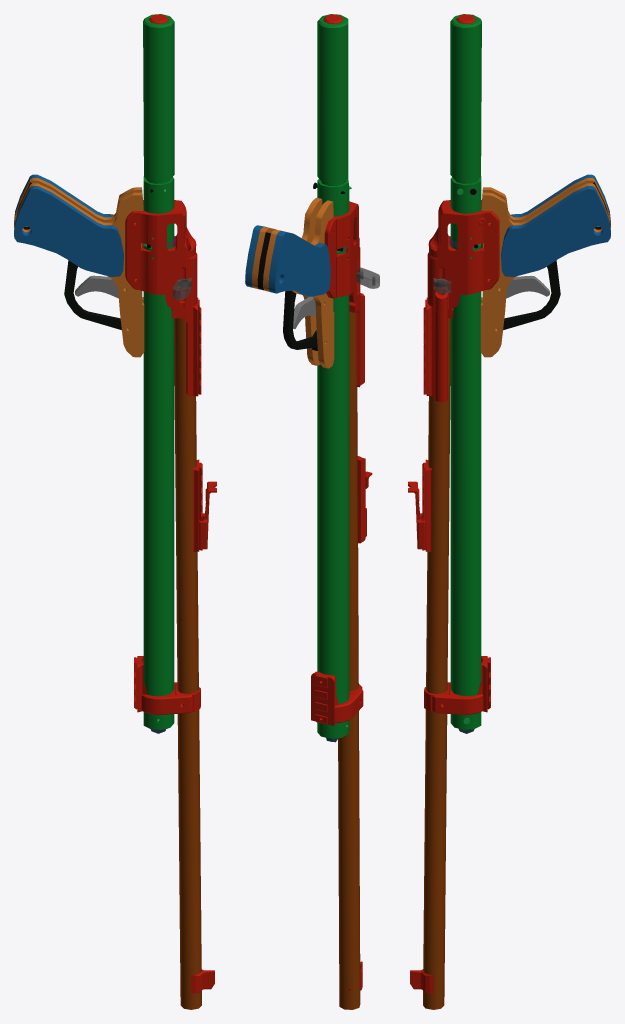
3 renders of one model, left to right at view 1: azimuth 90°, elevation 25°; view 2: azimuth 150°, elevation 25°; view 3: azimuth 270°, elevation 25°, orthographic.
Visible parts, largest first — view 1: G01_PPR_OD25_ID16, G03_srombong_pipe5/8.001, G07_popor8.001, G05_pipagagang_OD25_ID20.001, G01_chamber.001, G07_grip2a.001, G02_magasin.001, G01_ringlaras1.001, G02_loaderhouse.001, G07_grip1.001, G07_grip2.001, G03_rail.001 (+2 smaller); view 2: G01_PPR_OD25_ID16, G03_srombong_pipe5/8.001, G05_pipagagang_OD25_ID20.001, G07_popor8.001, G01_chamber.001, G07_grip2a.001, G01_ringlaras1.001, G07_grip2.001, G07_grip1.001, G02_magasin.001, G03_rail.001, G07_grip3.001 (+3 smaller); view 3: G01_PPR_OD25_ID16, G03_srombong_pipe5/8.001, G07_grip3.001, G05_pipagagang_OD25_ID20.001, G01_chamber.001, G07_grip2.001, G02_magasin.001, G01_ringlaras1.001, G02_loaderhouse.001, G07_grip1.001, G07_grip2a.001, G03_rail.001 (+2 smaller).
Part boxes in pixels (x1,y1,x2,y2): G01_PPR_OD25_ID16: (143, 176, 174, 729); G03_srombong_pipe5/8.001: (174, 318, 201, 1009); G07_popor8.001: (14, 186, 123, 276); G05_pipagagang_OD25_ID20.001: (143, 14, 174, 181); G01_chamber.001: (125, 200, 196, 294); G07_grip2a.001: (14, 183, 144, 357); G02_magasin.001: (171, 297, 201, 396); G01_ringlaras1.001: (134, 656, 192, 714); G02_loaderhouse.001: (165, 252, 197, 309); G07_grip1.001: (14, 182, 128, 330); G07_grip2.001: (14, 178, 143, 302); G03_rail.001: (193, 459, 202, 551); G01_PPR_OD25_ID16: (317, 179, 349, 738); G03_srombong_pipe5/8.001: (338, 312, 360, 1009); G05_pipagagang_OD25_ID20.001: (317, 14, 348, 183); G07_popor8.001: (268, 231, 330, 296); G01_chamber.001: (324, 201, 359, 298); G07_grip2a.001: (263, 200, 334, 368); G01_ringlaras1.001: (311, 671, 363, 725); G07_grip2.001: (252, 197, 322, 365); G07_grip1.001: (257, 232, 317, 350); G02_magasin.001: (349, 293, 364, 387); G03_rail.001: (357, 456, 365, 543); G07_grip3.001: (245, 225, 266, 287); G01_PPR_OD25_ID16: (450, 176, 481, 729); G03_srombong_pipe5/8.001: (423, 318, 450, 1009); G07_grip3.001: (501, 186, 610, 276); G05_pipagagang_OD25_ID20.001: (450, 14, 481, 181); G01_chamber.001: (428, 200, 499, 294); G07_grip2.001: (480, 183, 610, 357); G02_magasin.001: (423, 297, 453, 402); G01_ringlaras1.001: (432, 656, 490, 714); G02_loaderhouse.001: (427, 252, 459, 312); G07_grip1.001: (496, 182, 610, 330); G07_grip2a.001: (481, 178, 610, 302); G03_rail.001: (422, 459, 431, 551).
Size of the model in its own units: 51.71 by 861 by 160.
